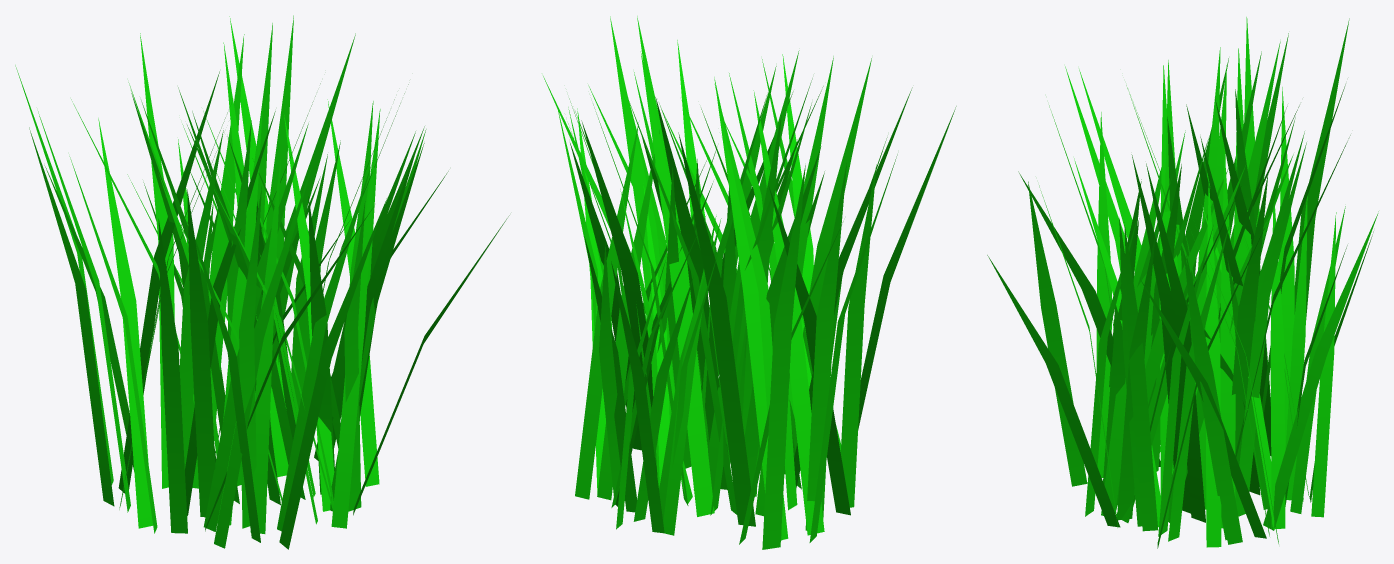
The model's file is Grass_004.fbx.
3 renders of one model, left to right at view 1: azimuth 30°, elevation 25°; view 2: azimuth 150°, elevation 25°; view 3: azimuth 270°, elevation 25°, orthographic. The views are drawn at different scales.
Parts seen in each view (by area): view 1: Grass.004; view 2: Grass.004; view 3: Grass.004.
Boxes of the visible parts, bbox=[...] form: Grass.004: bbox=[15, 15, 509, 549]; Grass.004: bbox=[543, 16, 956, 549]; Grass.004: bbox=[987, 17, 1378, 548].
Bounding box in the file's own units: 186 × 200 × 175.
